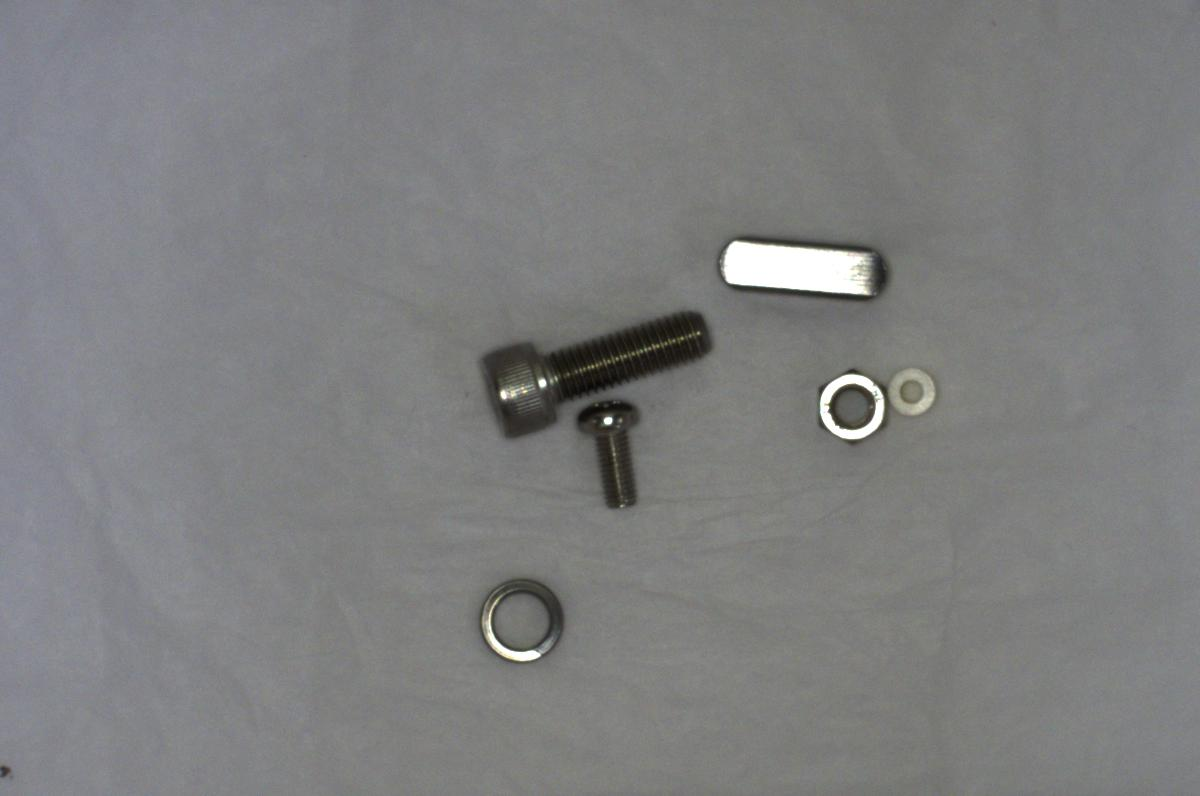Hexagon nut: (801, 364, 896, 455)
Hexagon screw: (475, 318, 725, 440)
Keybar: (706, 224, 896, 314)
Plastic cushion pillar: (885, 358, 939, 426)
Round head screw: (566, 390, 650, 521)
Spring washer: (456, 576, 571, 672)
